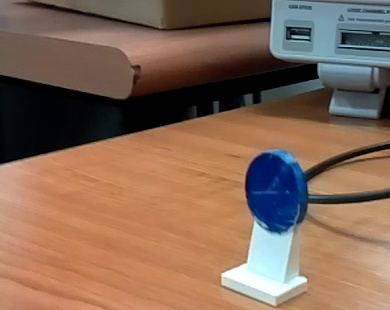circle: (198, 141, 324, 309)
